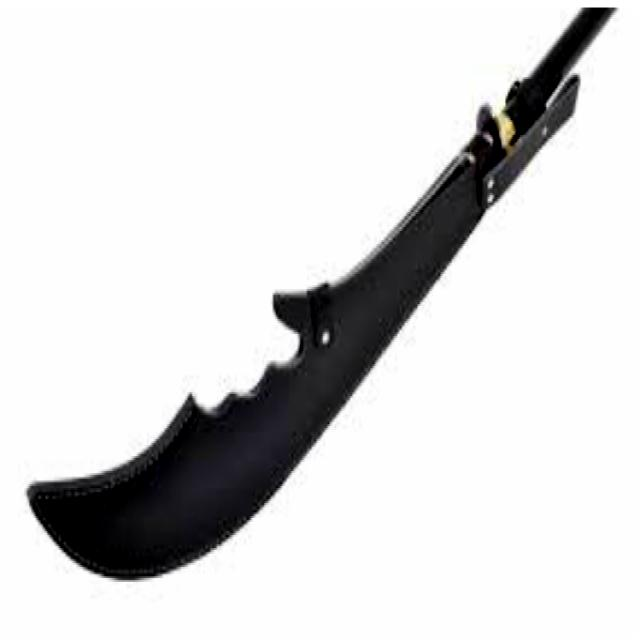spear: (12, 14, 626, 605)
